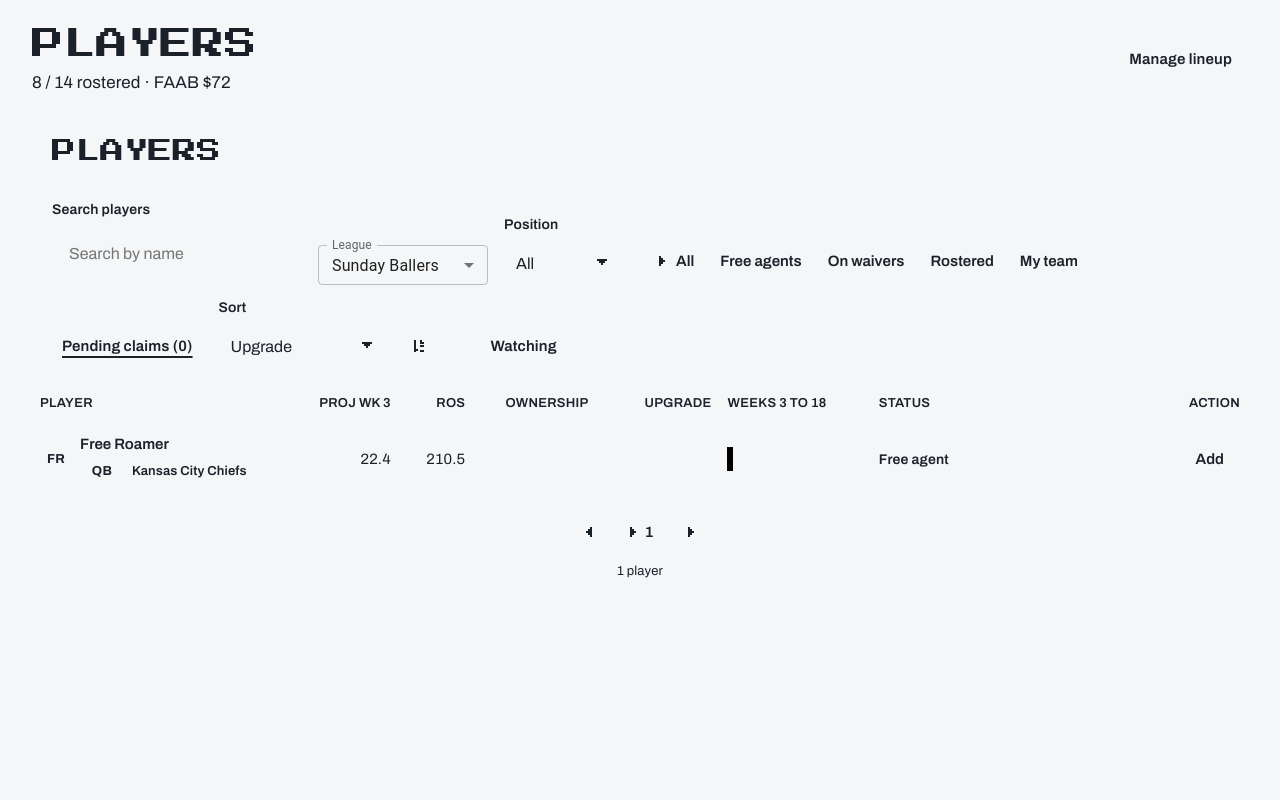
Test: clicking a free-agent player's name opens the Decision card with an Add-to-roster action, not PlayerQuickView
The width and height of the screenshot is (1280, 800).
Step 1. Click the button "Free Roamer" → [124, 444], box [80,422,169,466]
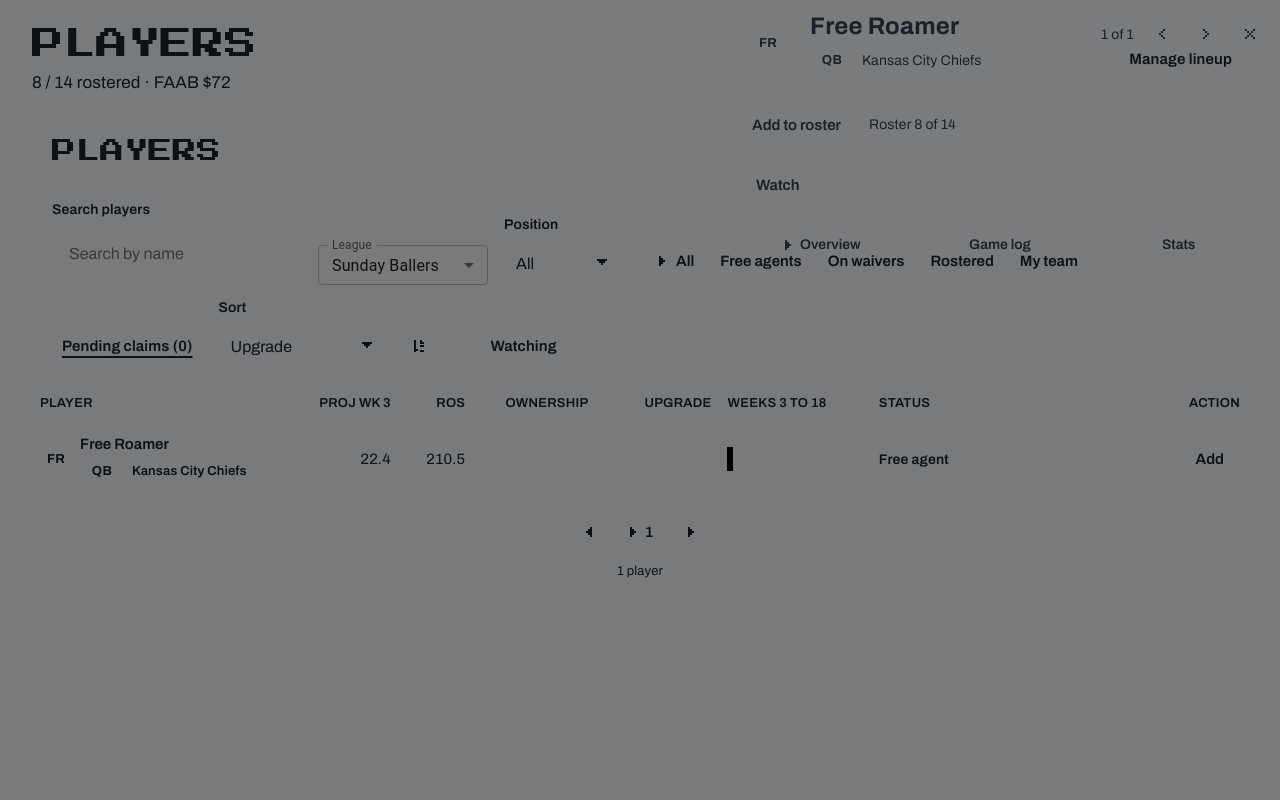
Check: the heading "Free Roamer" is shown, box [810,12,982,41]
Check: the element with test id "add-player-action" is shown, box [736,103,956,147]
